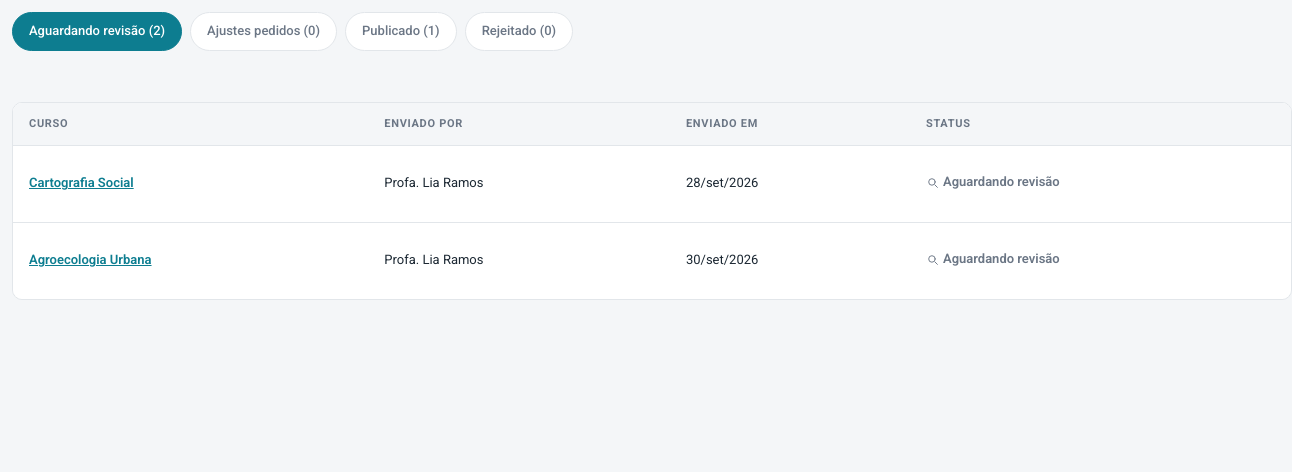
Test case: CourseReviewWorkspace › offers no decision on a course that already left the queue
Click the button "Publicado (1)": [401, 31] box [345, 12, 457, 51]
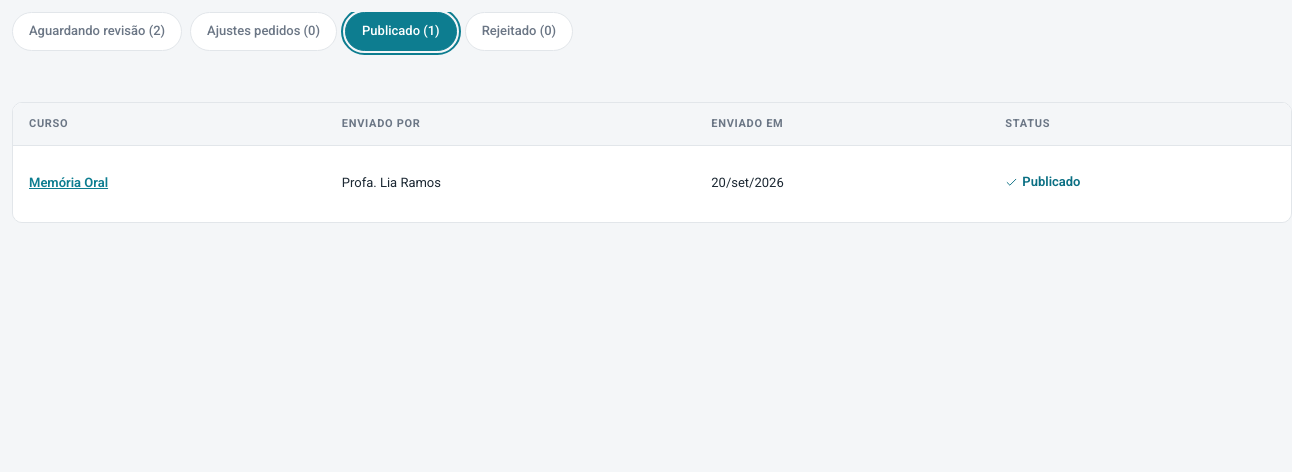
Click the button "Memória Oral": [69, 184] box [29, 162, 108, 206]
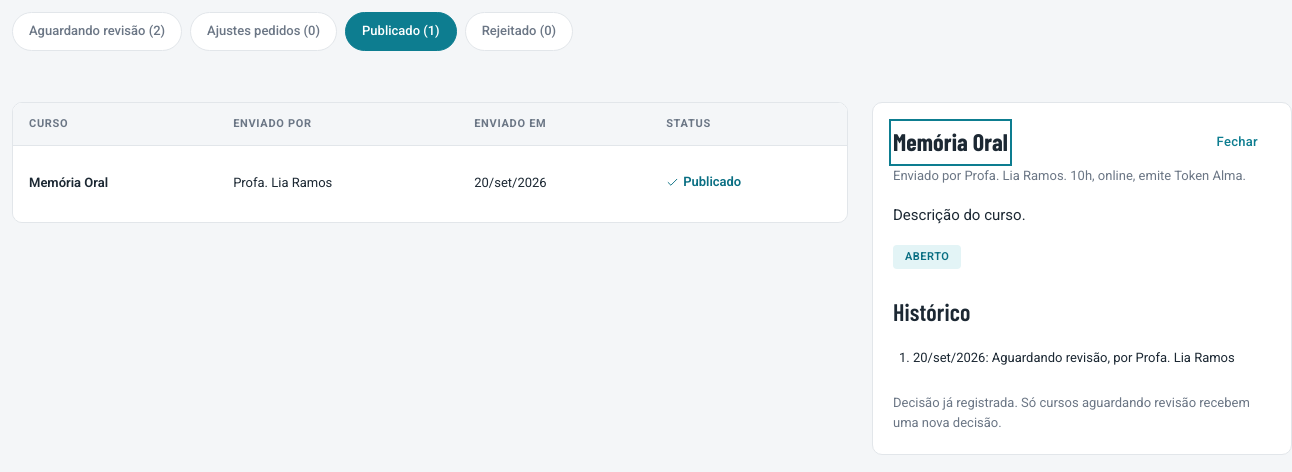
Check: the text "Decisão já registrada" is shown, box [893, 395, 1250, 430]
